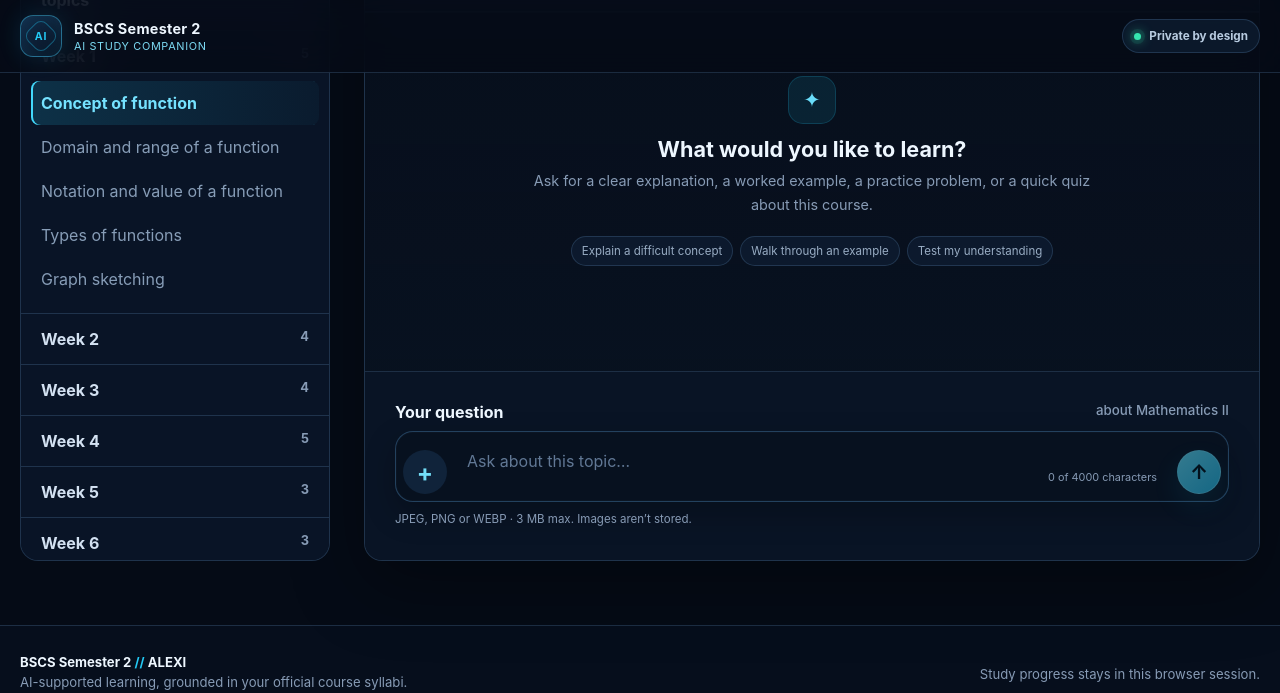
Test: study interactions › keeps static study materials usable when the tutor fails
The width and height of the screenshot is (1280, 693).
(page scrolled)
Type "Explain this" into the text box labelled "Your question" at (812, 467), box [455,439,1169,494]
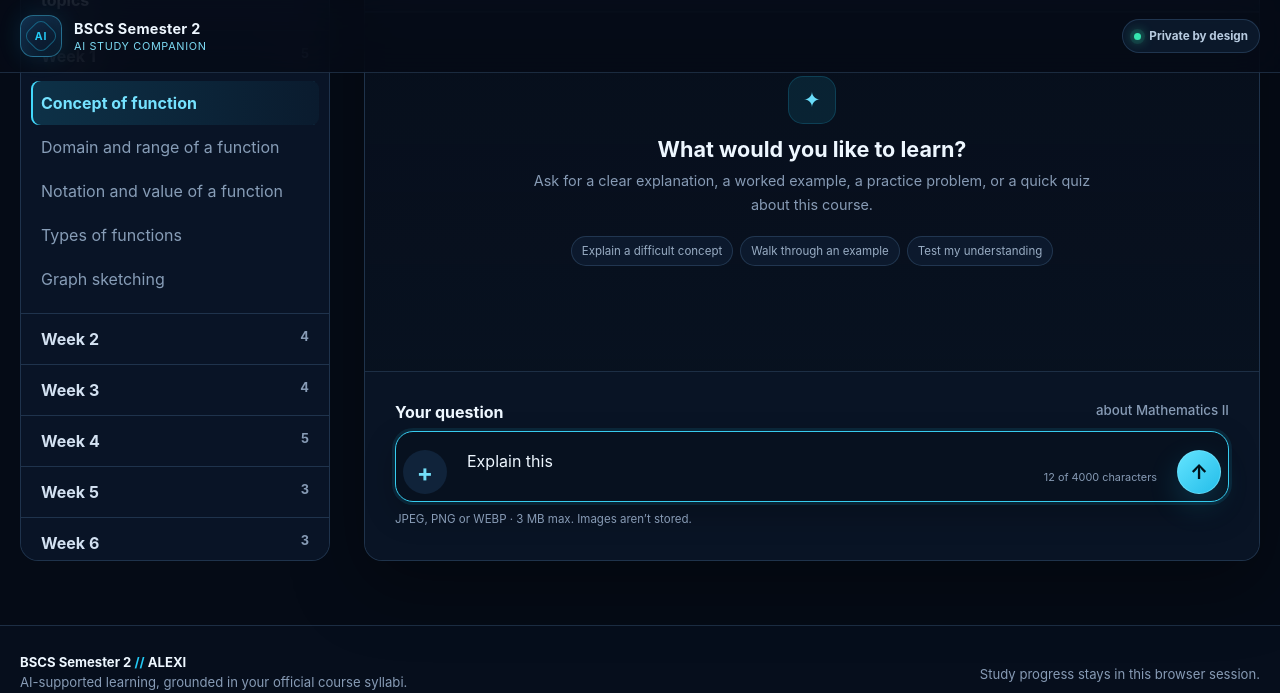
Click the button named "Send" at (1199, 472), box [1177,450,1221,494]
(page scrolled)
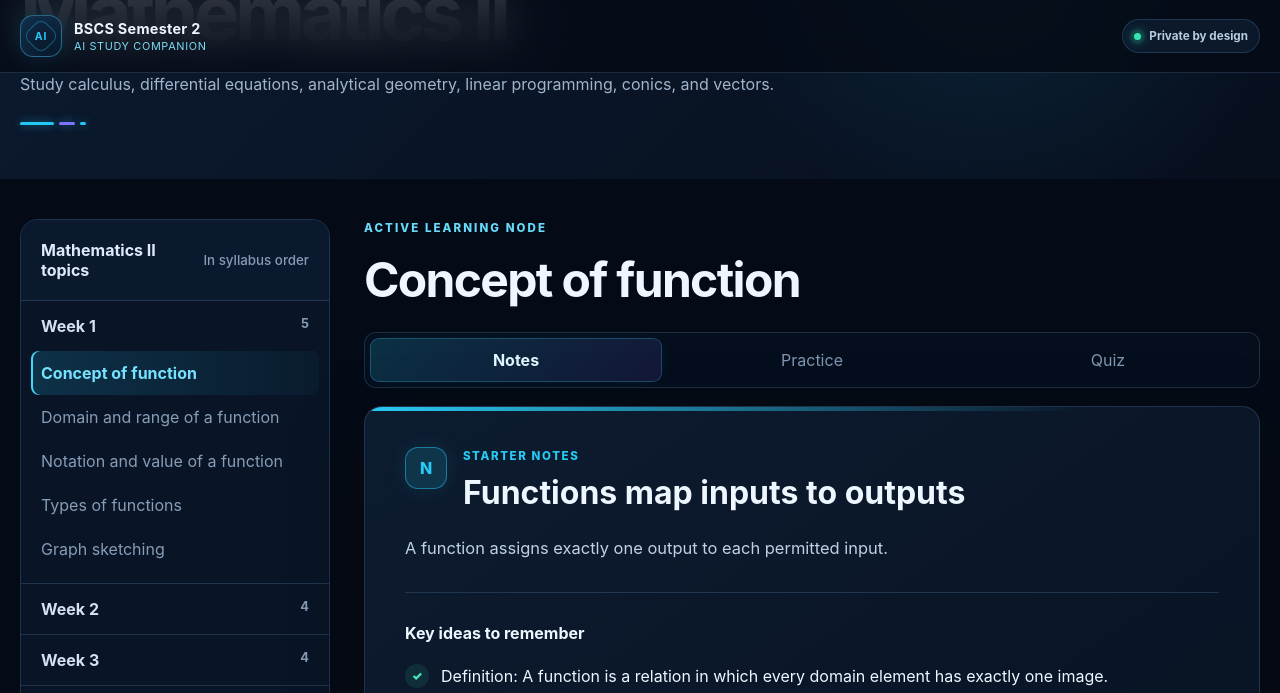
Click the tab "practice" at (812, 360), box [666,338,958,382]
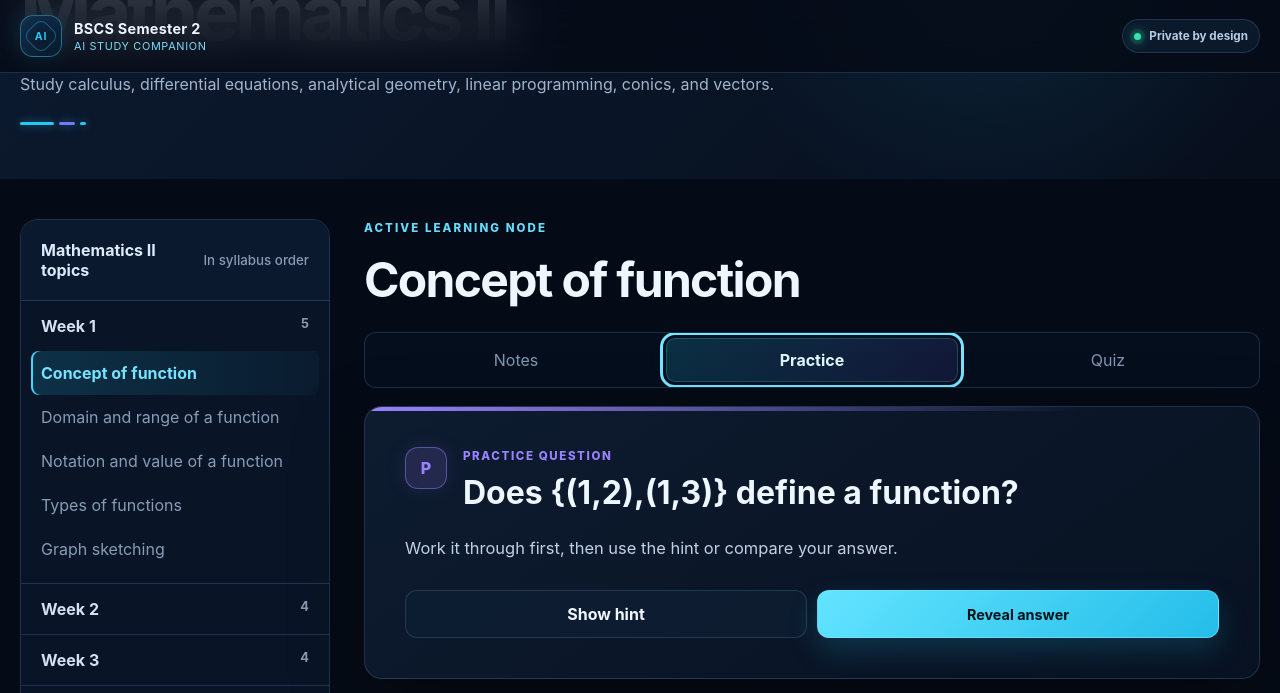
Click the button "Reveal answer" at (1018, 614), box [817,590,1219,638]
(page scrolled)
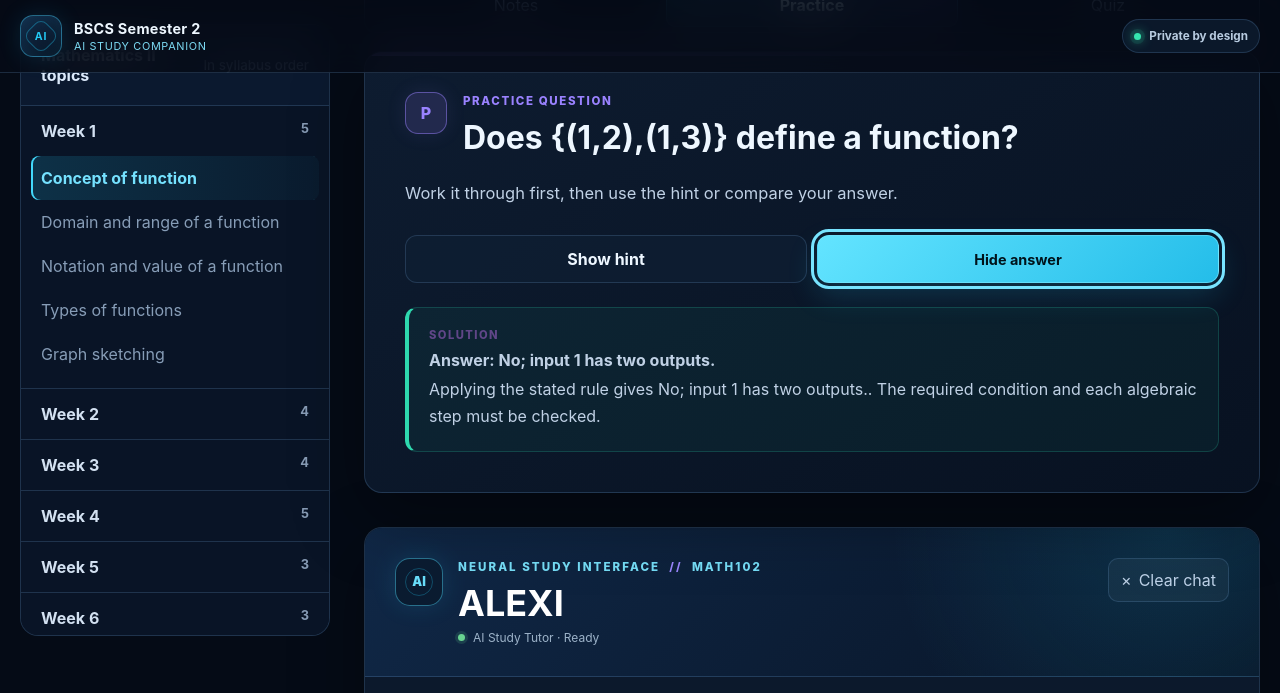
Now the text "Answer: No; input 1 has two outputs." is shown, box [429,350,715,370]
